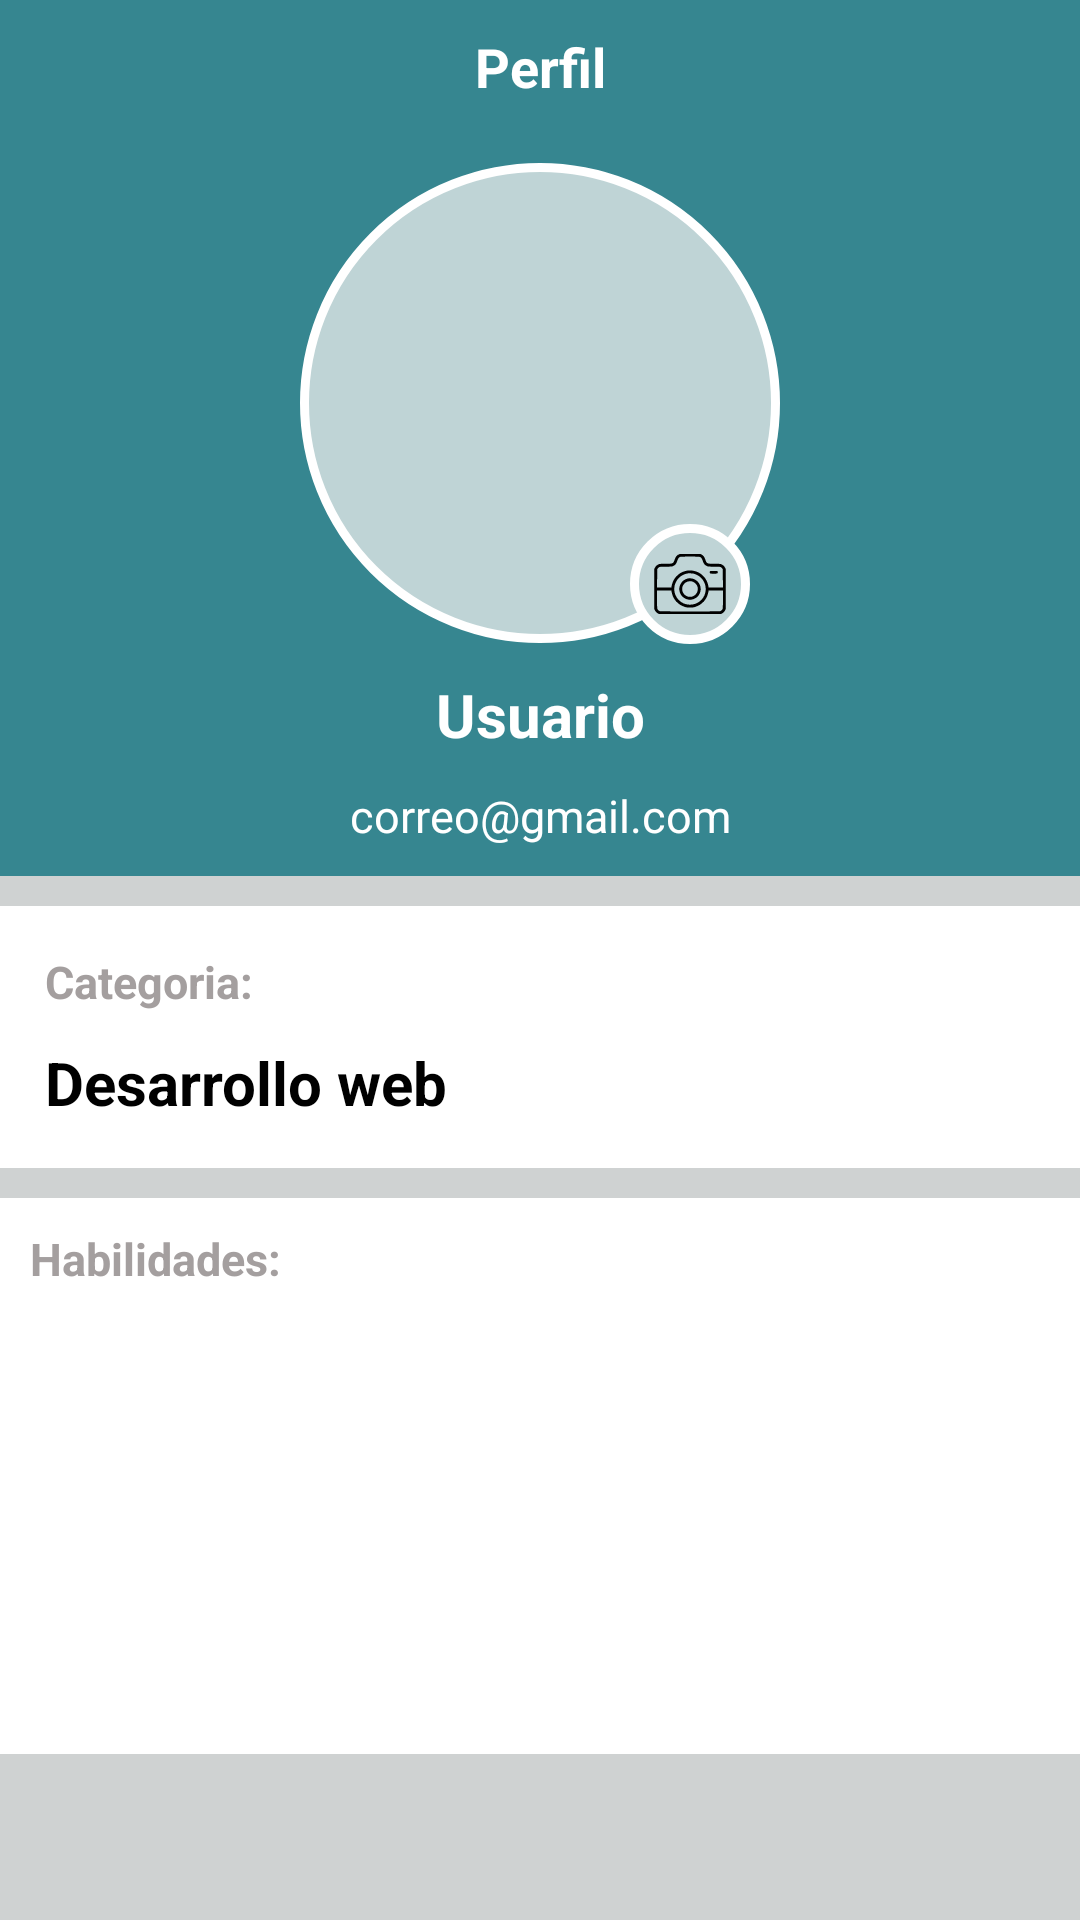

Screen size 1080 × 1920. Icon name, then its center in pixels as (x,y):
camera: (690,584)
